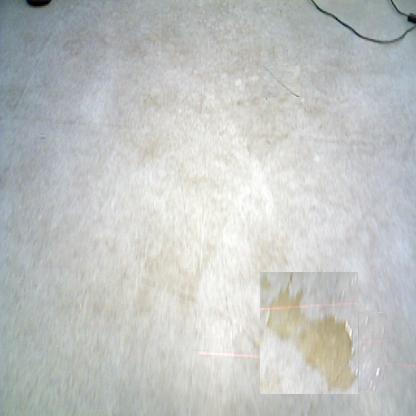liquid: (260, 272, 358, 394), (358, 312, 384, 392)
mark: (263, 63, 299, 99), (40, 133, 46, 141)
